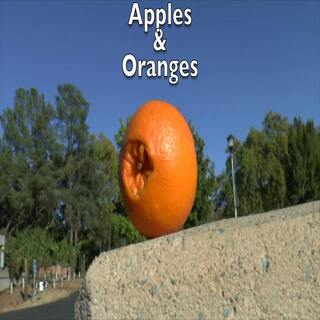orange: (106, 96, 206, 238)
